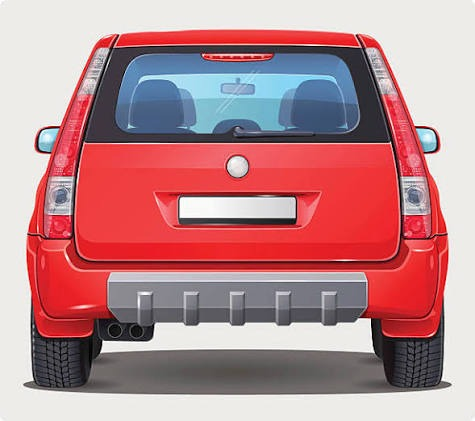car: (22, 23, 455, 384)
